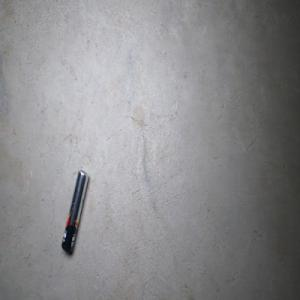Battery: (61, 169, 89, 253)
